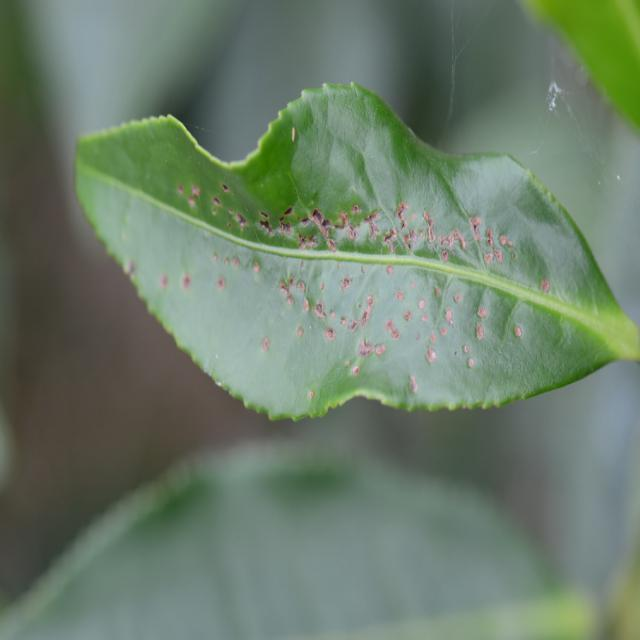Tea red scab: (148, 178, 553, 390)
